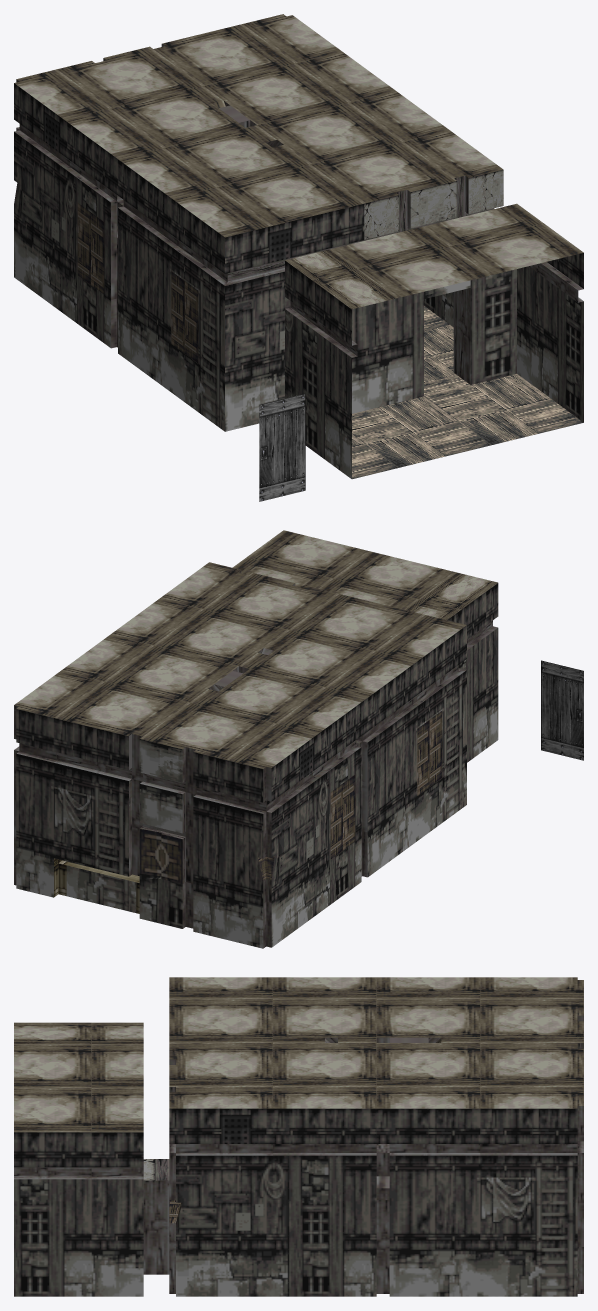
Rendered from MAP172.obj.
3 renders of one model, top to bottom at view 1: azimuth 30°, elevation 25°; view 2: azimuth 150°, elevation 25°; view 3: azimuth 270°, elevation 25°, orthographic. The views are drawn at different scales.
Visible parts, largest first — view 1: mesh_8, mesh_9, mesh_1, mesh_6, mesh_0, mesh_10, mesh_11, mesh_14; view 2: mesh_8, mesh_9, mesh_6, mesh_11, mesh_0, mesh_7; view 3: mesh_8, mesh_9, mesh_6, mesh_10.
Boxes of the visible parts, box(x1,y1,x2,y2) form: mesh_8: box(14, 83, 583, 478); mesh_9: box(14, 14, 583, 309); mesh_1: box(352, 306, 583, 479); mesh_6: box(14, 44, 583, 384); mesh_0: box(259, 393, 305, 501); mesh_10: box(364, 169, 503, 239); mesh_11: box(77, 203, 198, 363); mesh_14: box(227, 176, 494, 374); mesh_8: box(16, 583, 498, 948); mesh_9: box(14, 530, 497, 768); mesh_6: box(14, 570, 497, 948); mesh_11: box(139, 711, 442, 883); mesh_0: box(541, 660, 583, 760); mesh_7: box(54, 858, 139, 913); mesh_8: box(14, 1108, 577, 1296); mesh_9: box(14, 977, 583, 1132); mesh_6: box(14, 1015, 583, 1293); mesh_10: box(143, 1159, 169, 1180).
Size of the model in its own units: 89.5 by 53.3 by 141.
15 materials, 15 textured.
